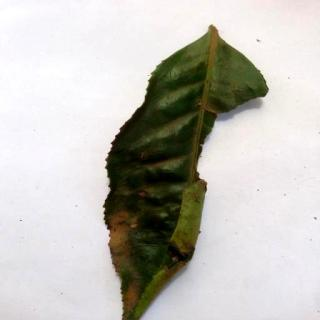Algal Leaf: (105, 24, 270, 320)
